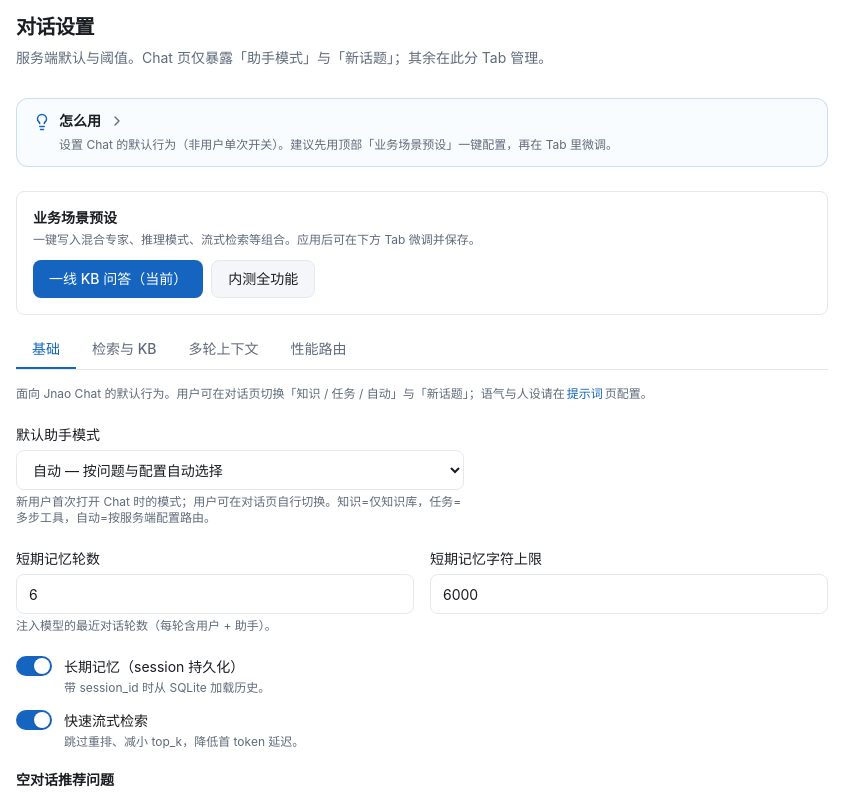
Test case: MemoryPage › links to models page for routing_model
Click the button "性能路由" at [319, 350], box [275, 331, 363, 369]
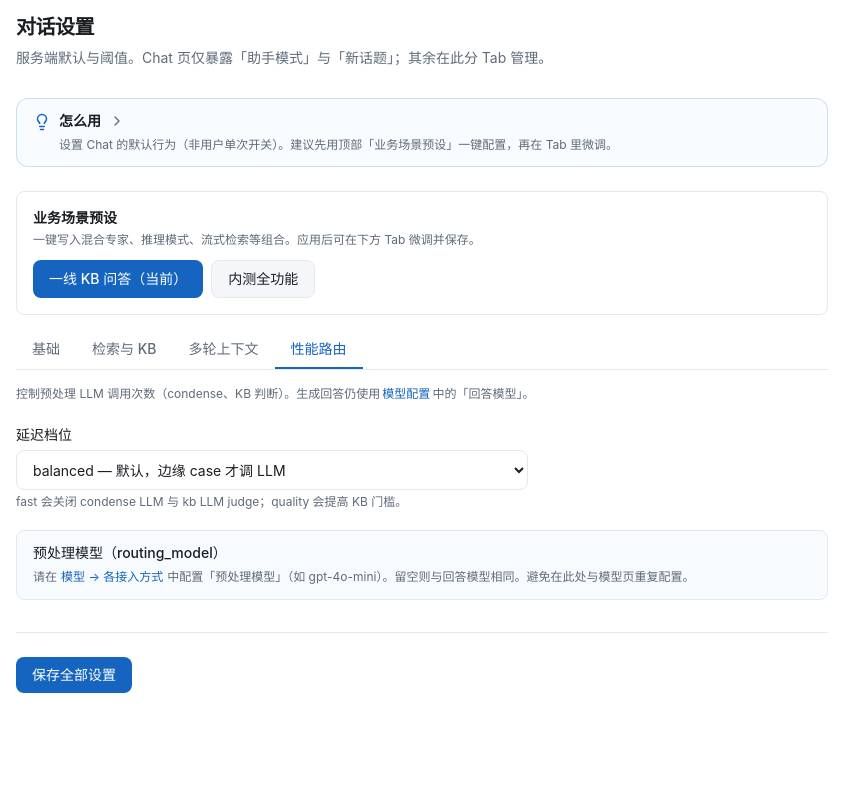
Check: the text "预处理模型（routing_model）" is shown, box [33, 544, 227, 561]
